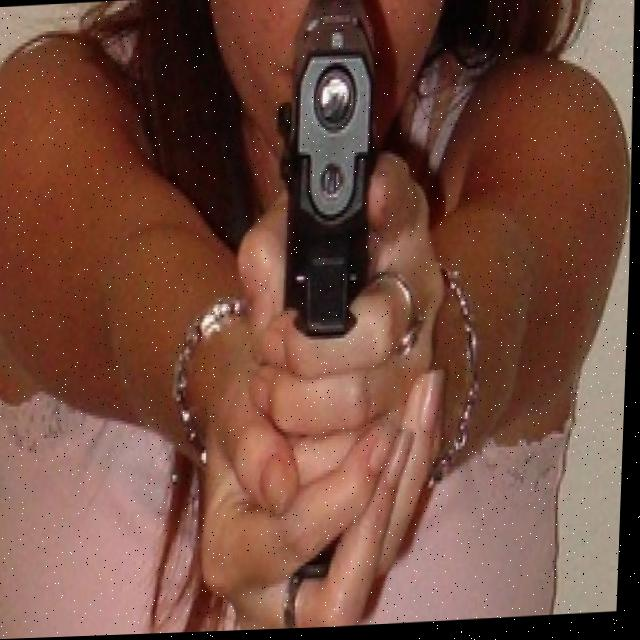pistol: (267, 0, 388, 340)
